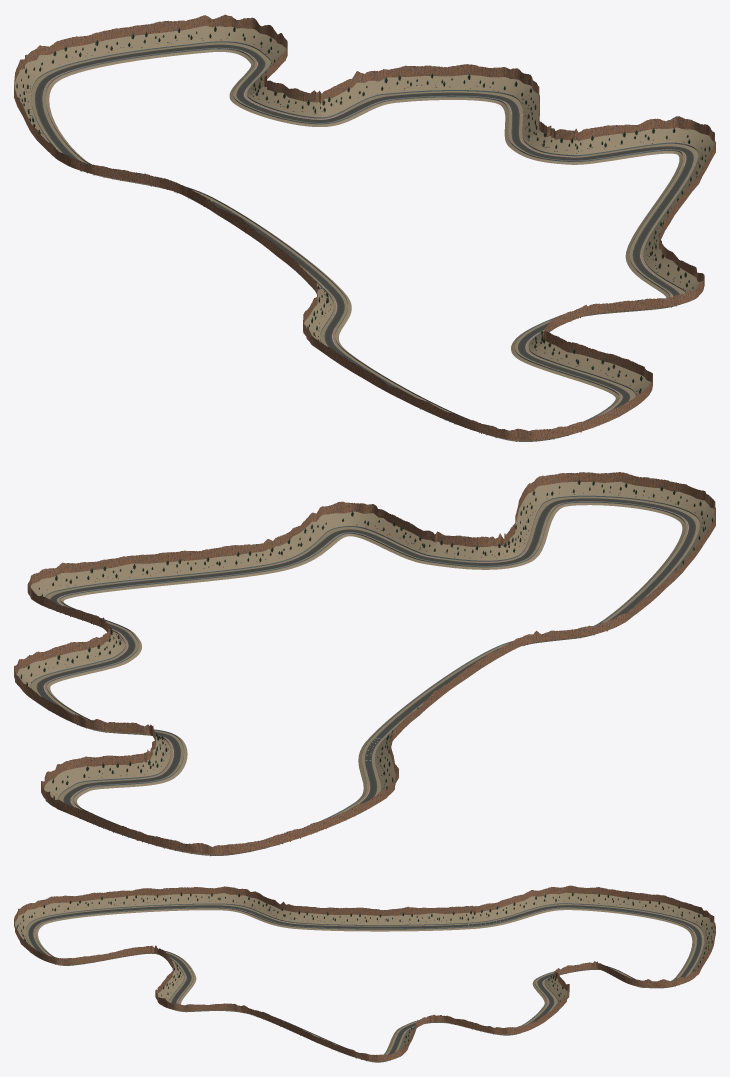
3 renders of one model, top to bottom at view 1: azimuth 30°, elevation 25°; view 2: azimuth 150°, elevation 25°; view 3: azimuth 270°, elevation 25°, orthographic. The views are drawn at different scales.
Parts seen in each view (by area): view 1: RaceTrack_Main, RaceTrack_Trees; view 2: RaceTrack_Main, RaceTrack_Trees; view 3: RaceTrack_Main, RaceTrack_Trees.
Boxes of the visible parts, x1,y1,x2,y2 form: RaceTrack_Main: (14,14,715,441); RaceTrack_Trees: (16,26,710,441); RaceTrack_Main: (14,472,715,855); RaceTrack_Trees: (20,479,713,856); RaceTrack_Main: (14,885,715,1062); RaceTrack_Trees: (16,892,714,1061).
Size of the model in its own units: 762 by 33.58 by 1341.
